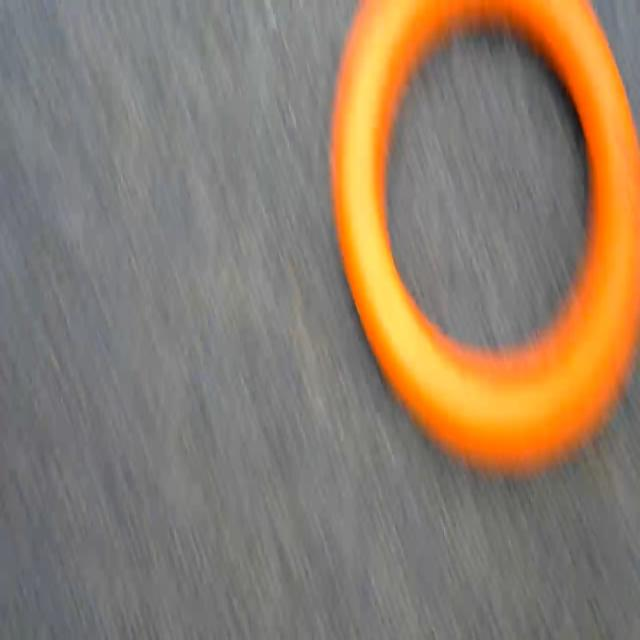note: (319, 0, 640, 491)
